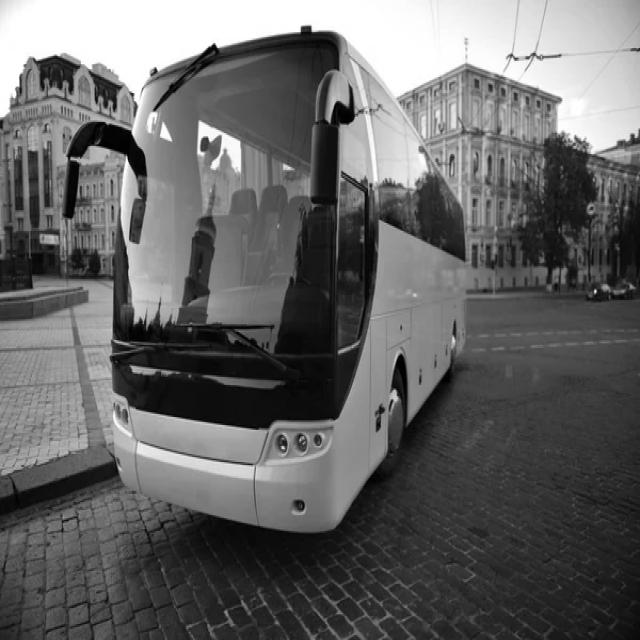Bus: (62, 29, 466, 530)
